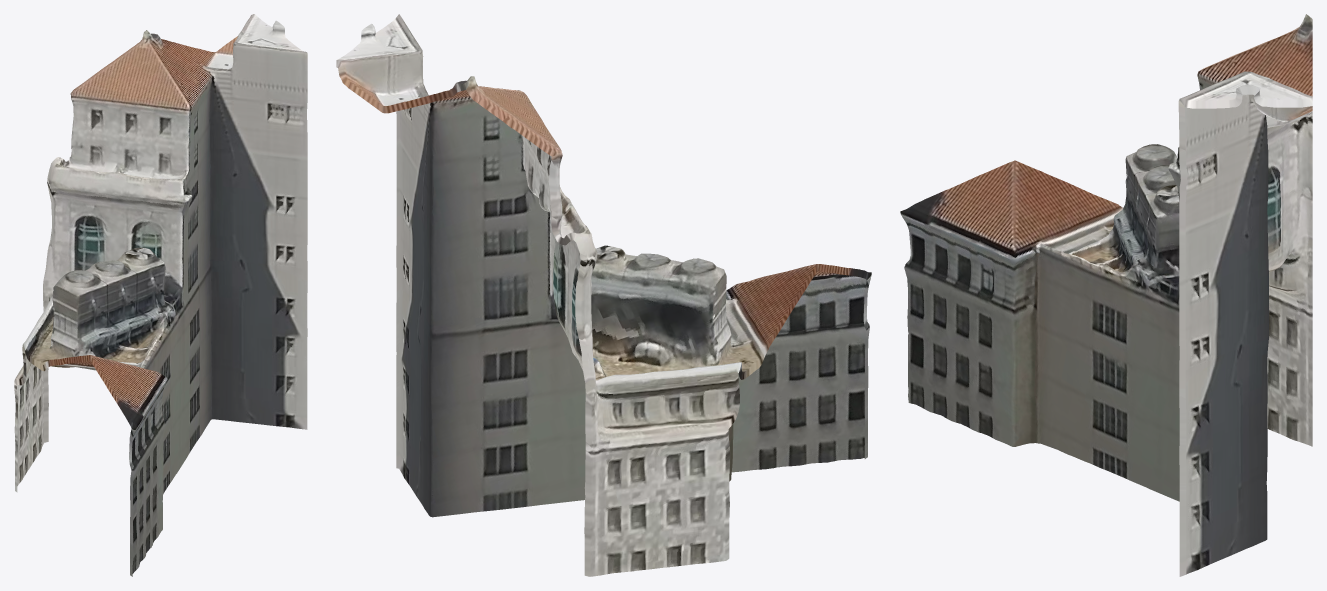
Rendered from z20-167781-405232-h1-yup-uvflip-v3-world.glb.
3 views of the same model, side by side, from view 1: azimuth 30°, elevation 25°; view 2: azimuth 150°, elevation 25°; view 3: azimuth 270°, elevation 25° (orthographic). The views are drawn at different scales.
Bounding box in the file's own units: 30.16 × 39.84 × 30.16.
Materials: 1 (1 with a texture image).
